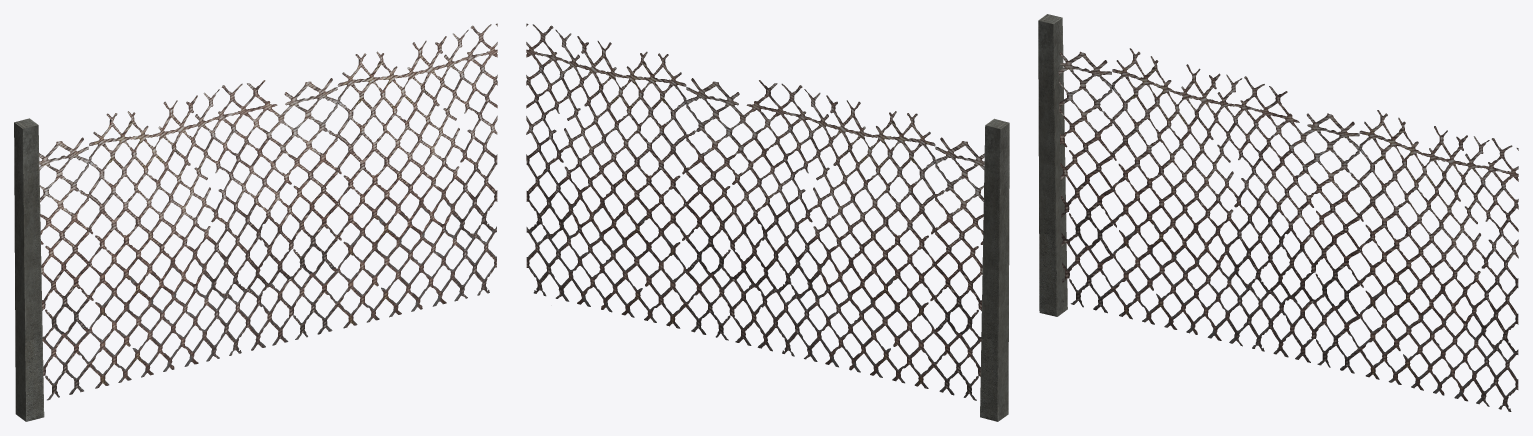
The model's file is fence_02.FBX.
3 views of the same model, side by side, from view 1: azimuth 30°, elevation 25°; view 2: azimuth 150°, elevation 25°; view 3: azimuth 330°, elevation 25° (orthographic).
Visible parts, largest first — view 1: fence_02_01; view 2: fence_02_01; view 3: fence_02_01.
Part boxes in pixels (x1,y1,x2,y2): fence_02_01: (14,23,497,421); fence_02_01: (526,23,1009,421); fence_02_01: (1038,14,1518,411).
Bounding box in the file's own units: 224 × 8.52 × 131.
